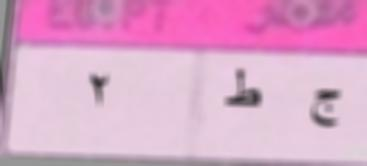2: (80, 61, 116, 112)
Taa: (224, 62, 266, 118)
jeem: (307, 82, 345, 134)
